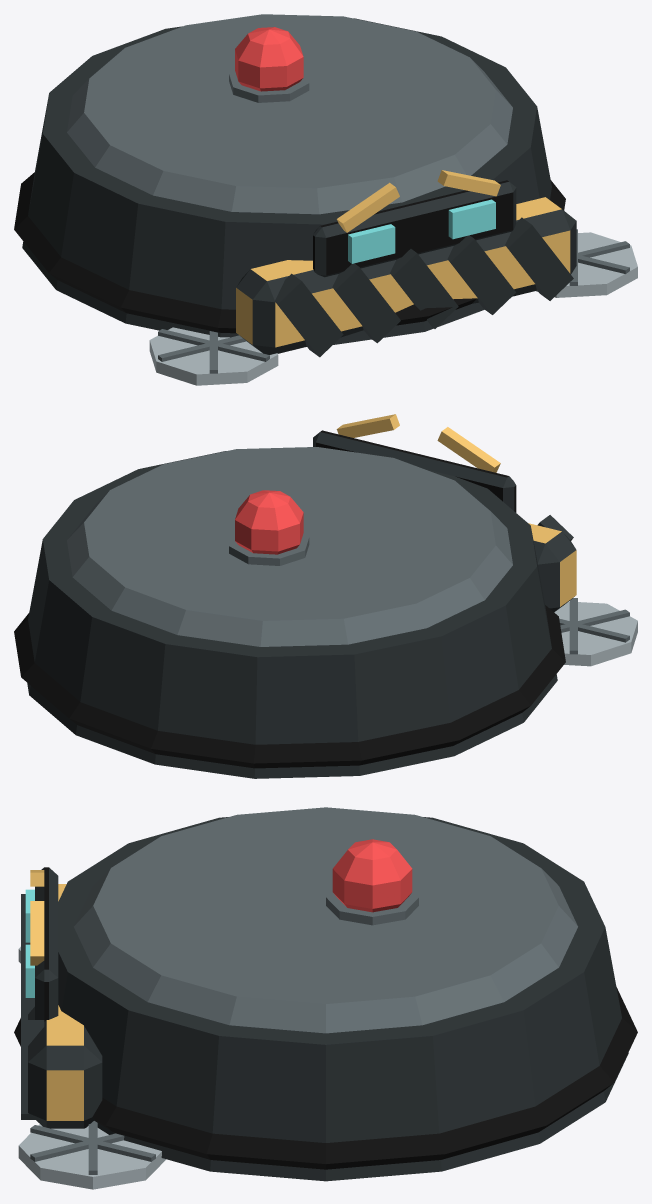
Rendered from putzroboter.glb.
3 views of the same model, one above another, from view 1: azimuth 30°, elevation 25°; view 2: azimuth 150°, elevation 25°; view 3: azimuth 270°, elevation 25° (orthographic). The views are drawn at different scales.
Parts seen in each view (by area): view 1: body-m, lamp-m; view 2: body-m, lamp-m; view 3: body-m, lamp-m.
Part boxes in pixels (box(x1,y1,x2,y2)): body-m: box(14, 14, 637, 385); lamp-m: box(229, 27, 309, 102); body-m: box(14, 414, 637, 778); lamp-m: box(229, 490, 309, 565); body-m: box(14, 807, 637, 1189); lamp-m: box(326, 839, 418, 925).
Bounding box in the file's own units: 1.34 × 0.515 × 1.34.
